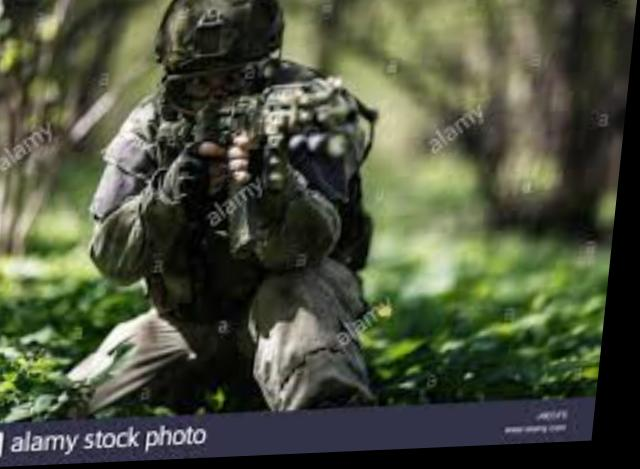other: (82, 0, 408, 417)
